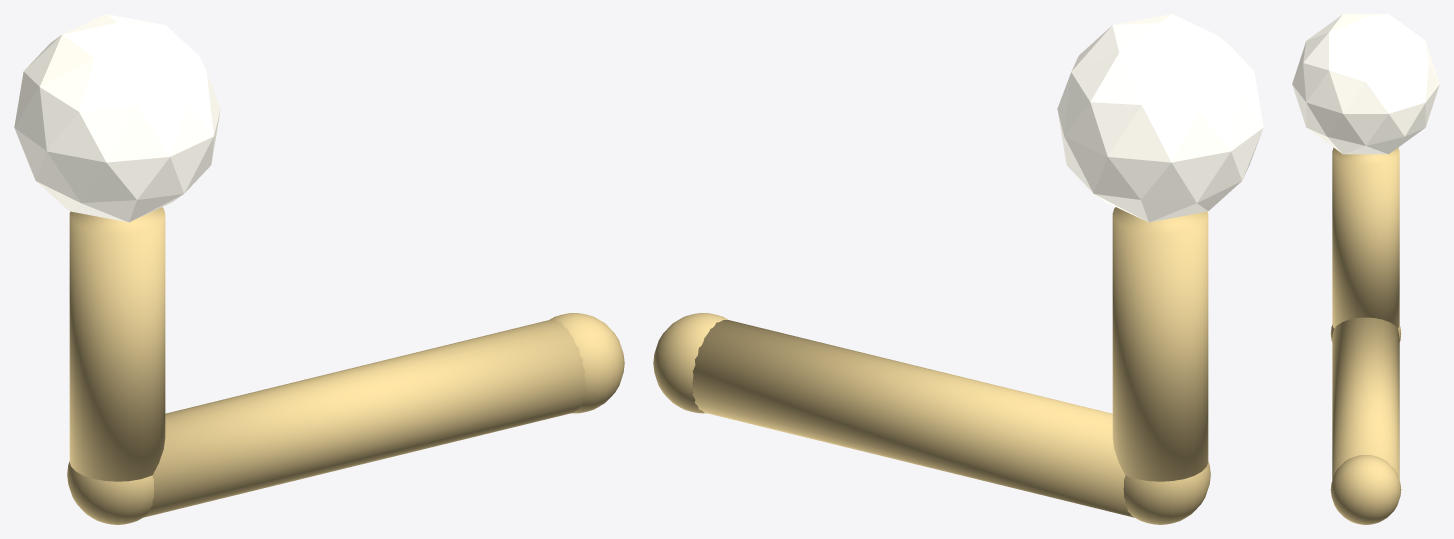
The model's file is nose-stud-l-gold585-opal-18g.glb.
3 renders of one model, left to right at view 1: azimuth 30°, elevation 25°; view 2: azimuth 150°, elevation 25°; view 3: azimuth 270°, elevation 25°, orthographic. The views are drawn at different scales.
Visible parts, largest first — view 1: nose_stud_l; view 2: nose_stud_l; view 3: nose_stud_l.
Part boxes in pixels (bbox=[...]): nose_stud_l: bbox=[14, 14, 624, 524]; nose_stud_l: bbox=[653, 14, 1263, 524]; nose_stud_l: bbox=[1292, 14, 1439, 524].
Bounding box in the file's own units: 0.00707 × 0.00573 × 0.0022.
